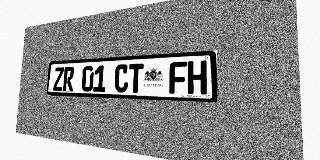0: (81, 66, 94, 92)
1: (93, 65, 106, 92)
C: (114, 64, 129, 93)
F: (169, 61, 187, 94)
H: (187, 60, 207, 95)
R: (63, 67, 74, 91)
T: (128, 63, 144, 93)
Z: (53, 67, 64, 91)
